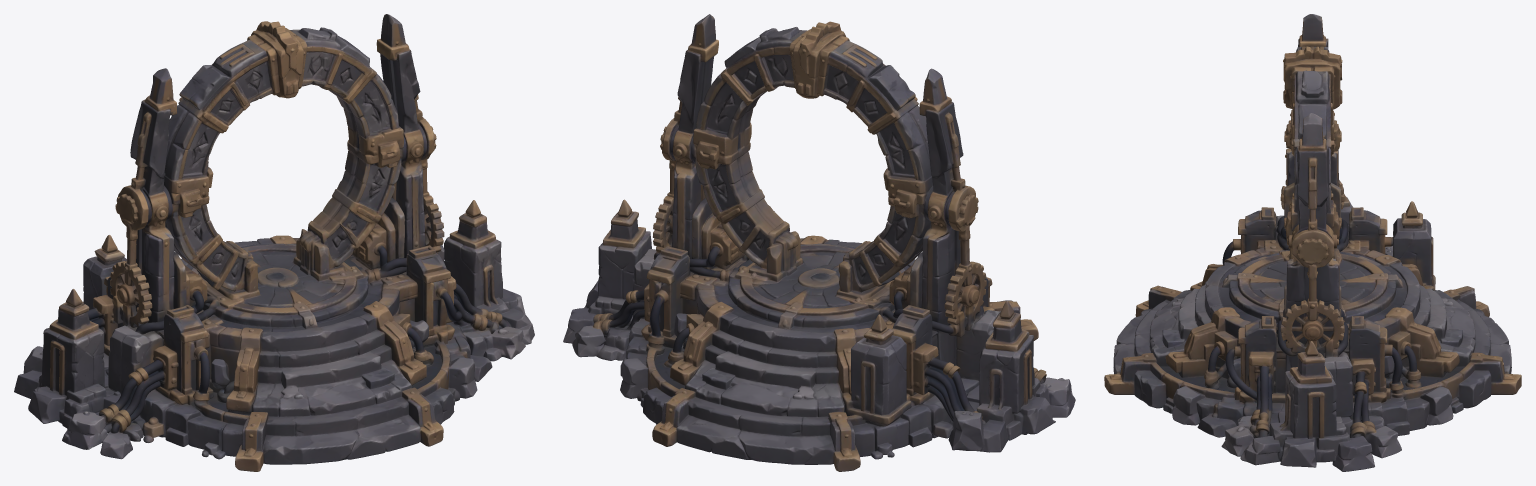
Rendered from hub_portal_machine.glb.
3 views of the same model, side by side, from view 1: azimuth 30°, elevation 25°; view 2: azimuth 150°, elevation 25°; view 3: azimuth 270°, elevation 25° (orthographic). The views are drawn at different scales.
Visible parts, largest first — view 1: tripo_node_9fad17c3-c147-421e-8c3a-4d2ad860af6a; view 2: tripo_node_9fad17c3-c147-421e-8c3a-4d2ad860af6a; view 3: tripo_node_9fad17c3-c147-421e-8c3a-4d2ad860af6a.
Part boxes in pixels (x1,y1,x2,y2): tripo_node_9fad17c3-c147-421e-8c3a-4d2ad860af6a: (14, 14, 534, 471); tripo_node_9fad17c3-c147-421e-8c3a-4d2ad860af6a: (563, 14, 1075, 471); tripo_node_9fad17c3-c147-421e-8c3a-4d2ad860af6a: (1104, 14, 1521, 471).
Size of the model in its own units: 1 by 0.7111 by 0.8339.
Materials: 1 (1 with a texture image).
